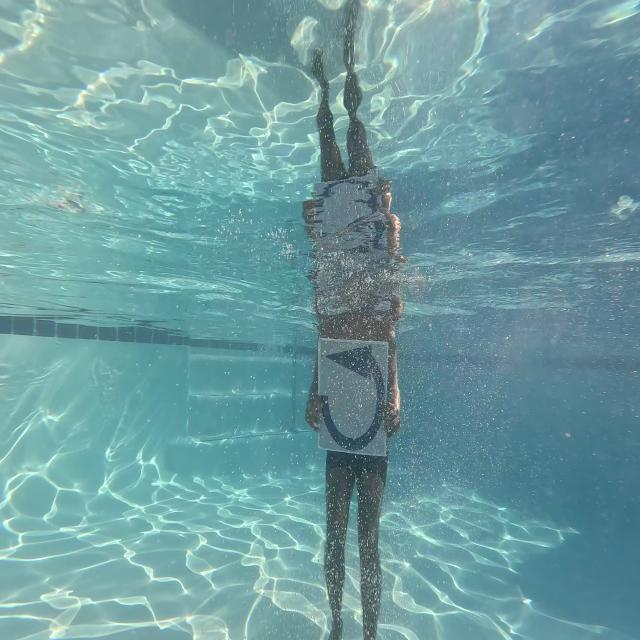blue_side: (314, 325, 389, 456)
